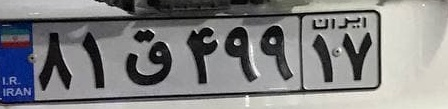character: (117, 25, 180, 93), (35, 27, 78, 97), (75, 24, 117, 94), (181, 22, 223, 91), (257, 20, 299, 87), (220, 19, 260, 89), (337, 28, 376, 84), (306, 30, 340, 87)
